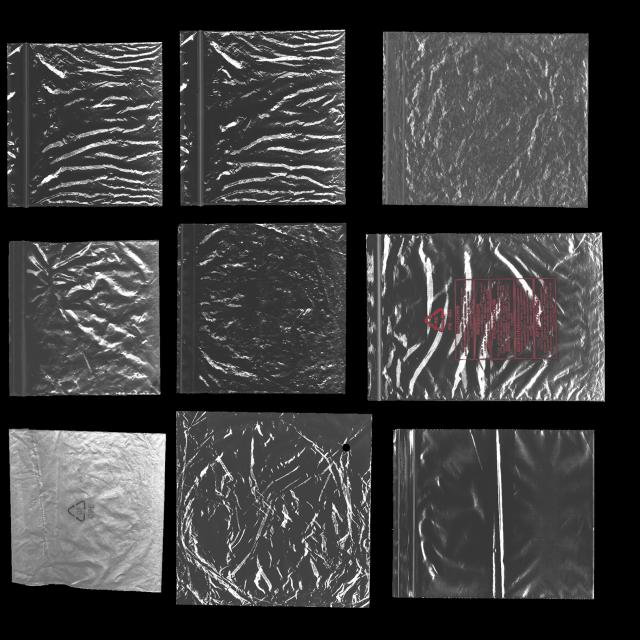Single-layer Plastic: (368, 233, 604, 401), (178, 412, 371, 607), (384, 32, 588, 207), (394, 429, 594, 598), (180, 31, 345, 204), (178, 224, 346, 393), (8, 42, 162, 207), (10, 429, 164, 592), (10, 240, 160, 395)
